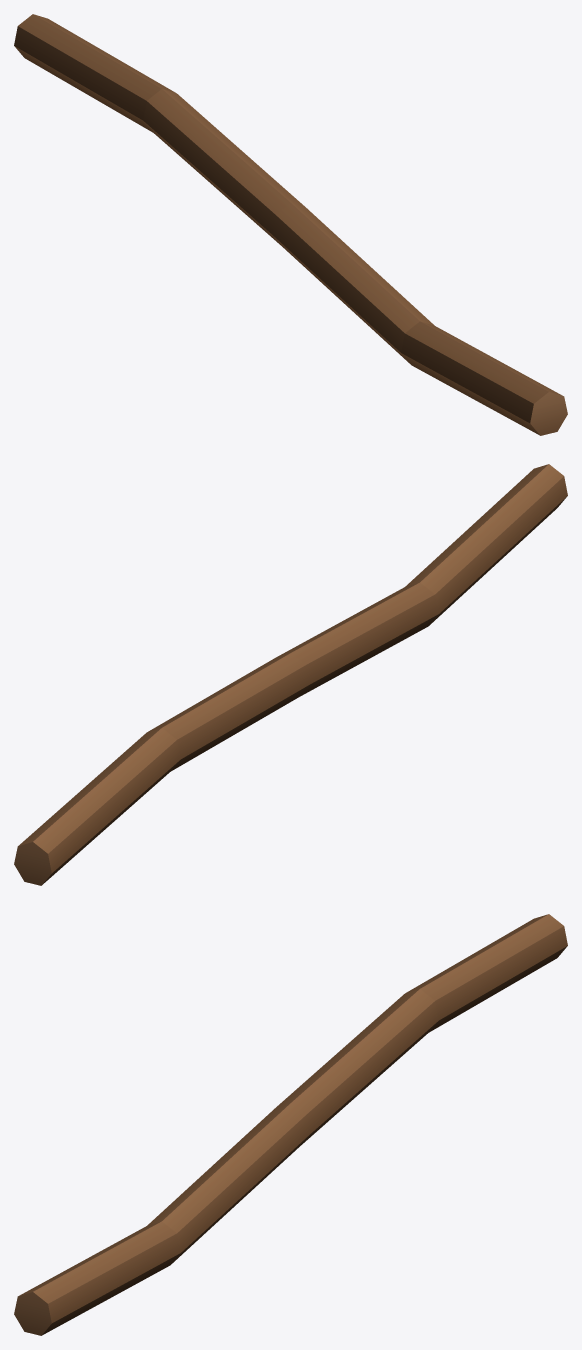
The model's file is Tent_branch_01.fbx.
3 views of the same model, one above another, from view 1: azimuth 30°, elevation 25°; view 2: azimuth 150°, elevation 25°; view 3: azimuth 330°, elevation 25° (orthographic).
Visible parts, largest first — view 1: Tent_branch-0; view 2: Tent_branch-0; view 3: Tent_branch-0.
Part boxes in pixels (bbox=[...]): Tent_branch-0: bbox=[14, 14, 567, 435]; Tent_branch-0: bbox=[14, 464, 567, 885]; Tent_branch-0: bbox=[14, 914, 567, 1335].
Bounding box in the file's own units: 25.68 × 55.52 × 607.
Materials: 1 (1 with a texture image).
